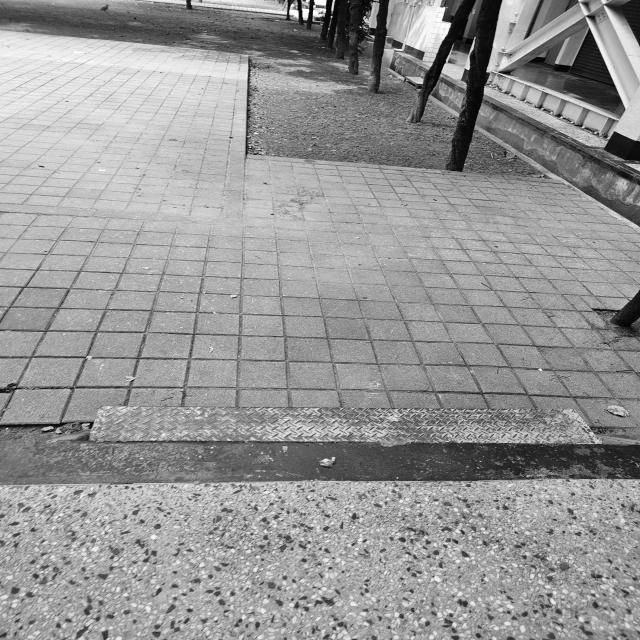Road-Object: (0, 30, 640, 429), (0, 479, 640, 640)
floor: (0, 407, 640, 484)
